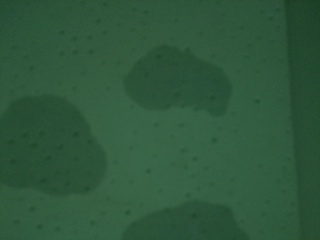Water_detected: (4, 103, 87, 184), (129, 49, 201, 102), (129, 201, 207, 240)
